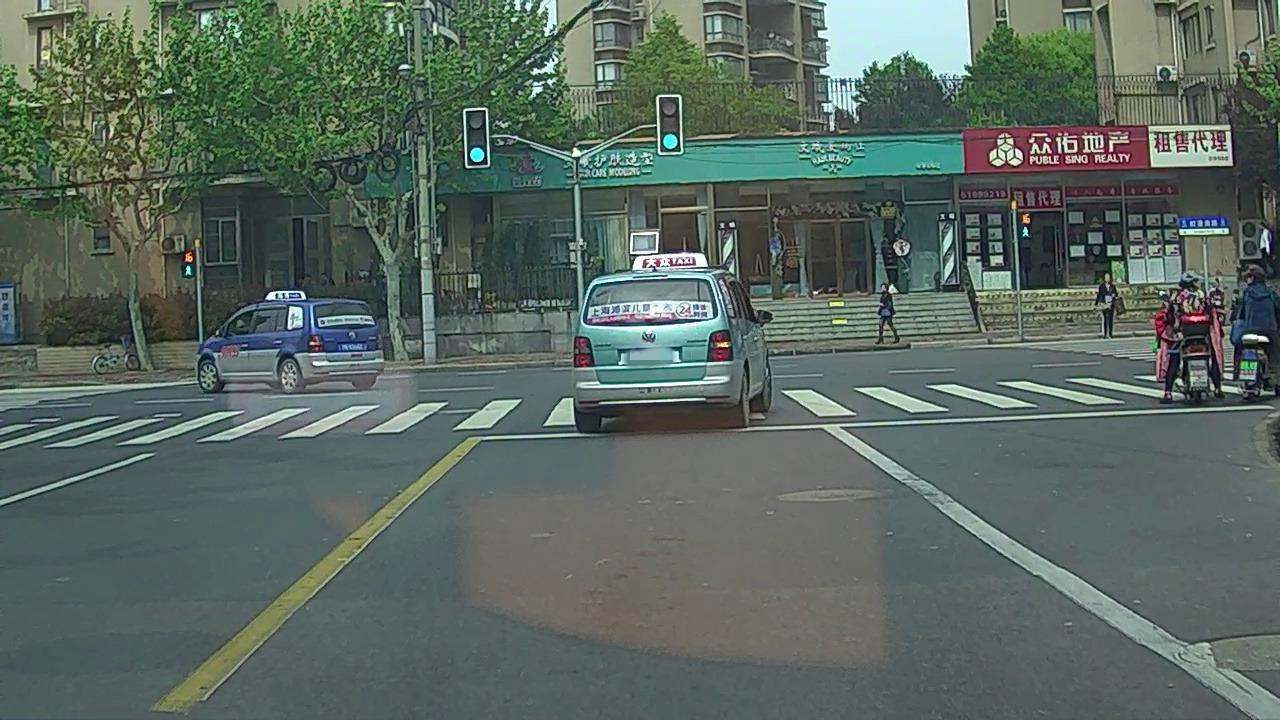traffic_light: (658, 96, 683, 153), (465, 111, 488, 166)
